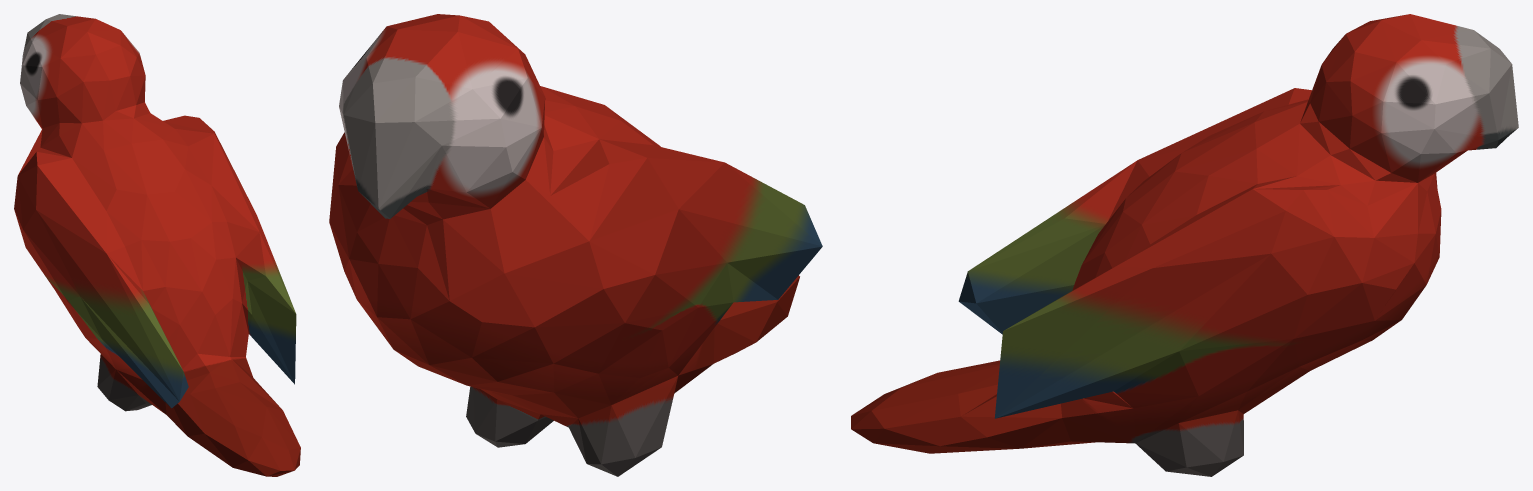
File: animal_macaw_blob.obj
The picture shows the model from 3 angles, left to right: view 1: azimuth 30°, elevation 25°; view 2: azimuth 150°, elevation 25°; view 3: azimuth 270°, elevation 25°; orthographic projection. The views are drawn at different scales.
Parts seen in each view (by area): view 1: animal_macaw_blob; view 2: animal_macaw_blob; view 3: animal_macaw_blob.
Boxes of the visible parts, <box> form: animal_macaw_blob: <box>14,14,300,476</box>; animal_macaw_blob: <box>329,14,822,476</box>; animal_macaw_blob: <box>851,14,1518,476</box>.
Bounding box in the file's own units: 0.2717 × 0.434 × 0.6098.
